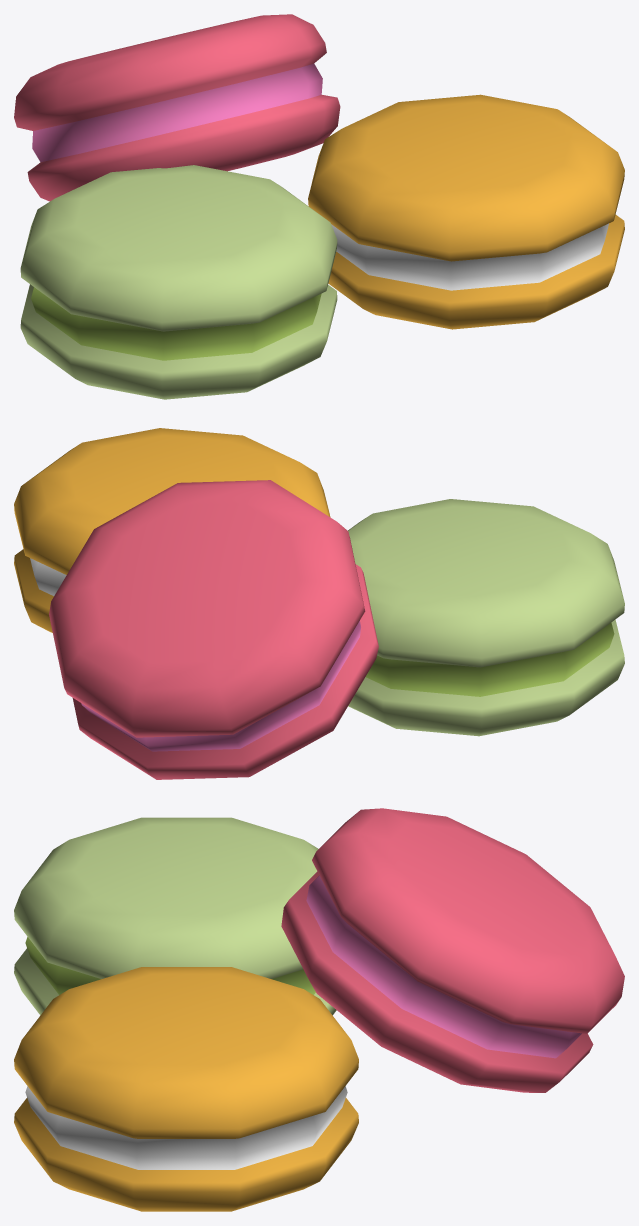
The model's file is Macaron.fbx.
The picture shows the model from 3 angles, top to bottom: view 1: azimuth 30°, elevation 25°; view 2: azimuth 150°, elevation 25°; view 3: azimuth 270°, elevation 25°; orthographic projection. The views are drawn at different scales.
Visible parts, largest first — view 1: Macaron; view 2: Macaron; view 3: Macaron.
Boxes of the visible parts, x1,y1,x2,y2 form: Macaron: (14, 14, 624, 399); Macaron: (14, 428, 624, 779); Macaron: (14, 808, 624, 1211).
Bounding box in the file's own units: 30.19 × 11.69 × 27.05.
